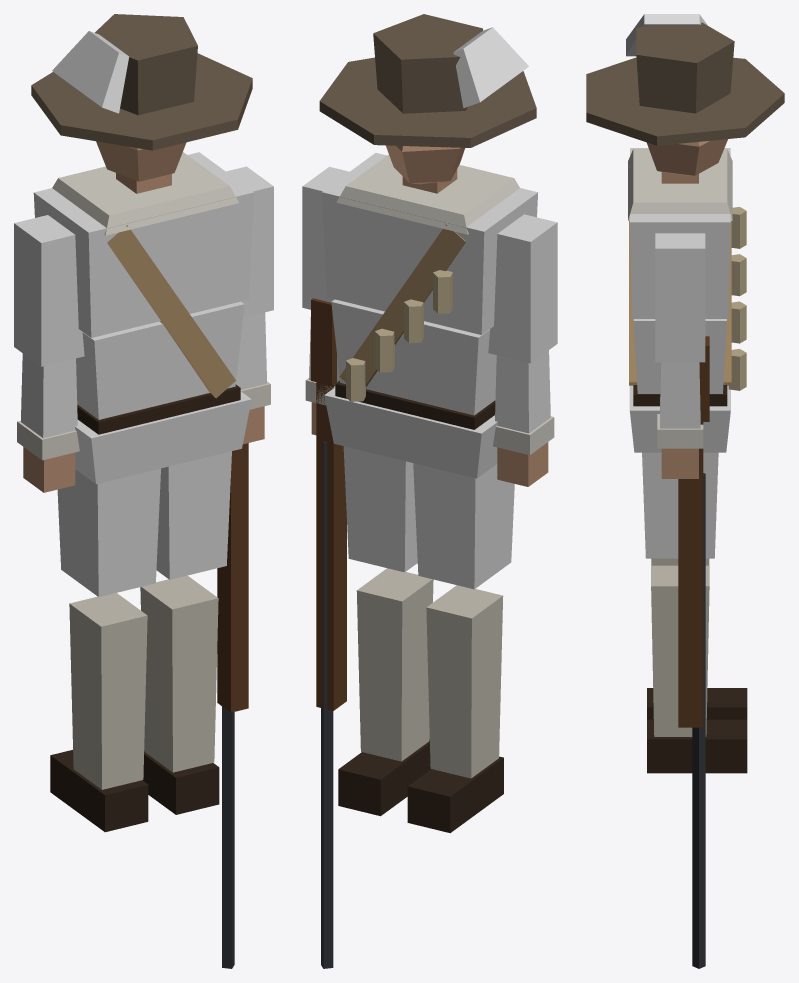
Rendered from soldier_em_musket_lod1.glb.
3 renders of one model, left to right at view 1: azimuth 30°, elevation 25°; view 2: azimuth 150°, elevation 25°; view 3: azimuth 270°, elevation 25°, orthographic. The views are drawn at different scales.
Visible parts, largest first — view 1: em_musket_lod1_static; view 2: em_musket_lod1_static; view 3: em_musket_lod1_static.
Part boxes in pixels (left/top/right/bottom): em_musket_lod1_static: left=14, top=14, right=273, bottom=968; em_musket_lod1_static: left=302, top=14, right=557, bottom=968; em_musket_lod1_static: left=586, top=14, right=784, bottom=968.
Size of the model in its own units: 0.59 by 2.35 by 0.4752.
